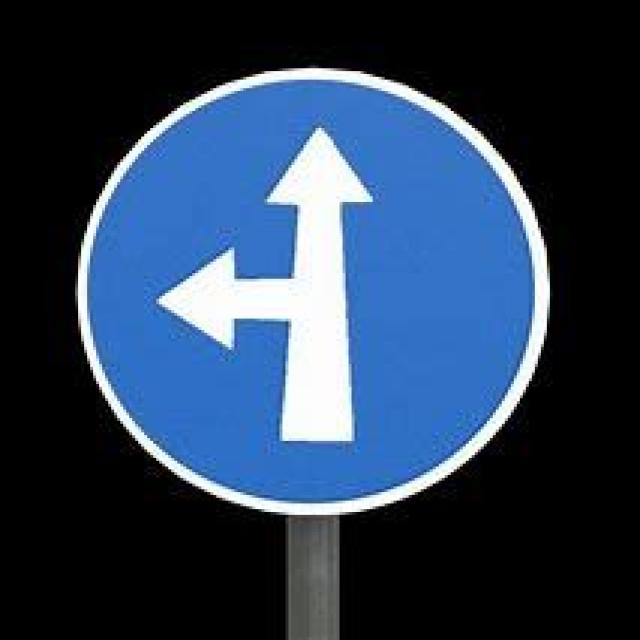COMPULSARY_AHEAD_OR_TURN_LEFT: (79, 56, 552, 522)
